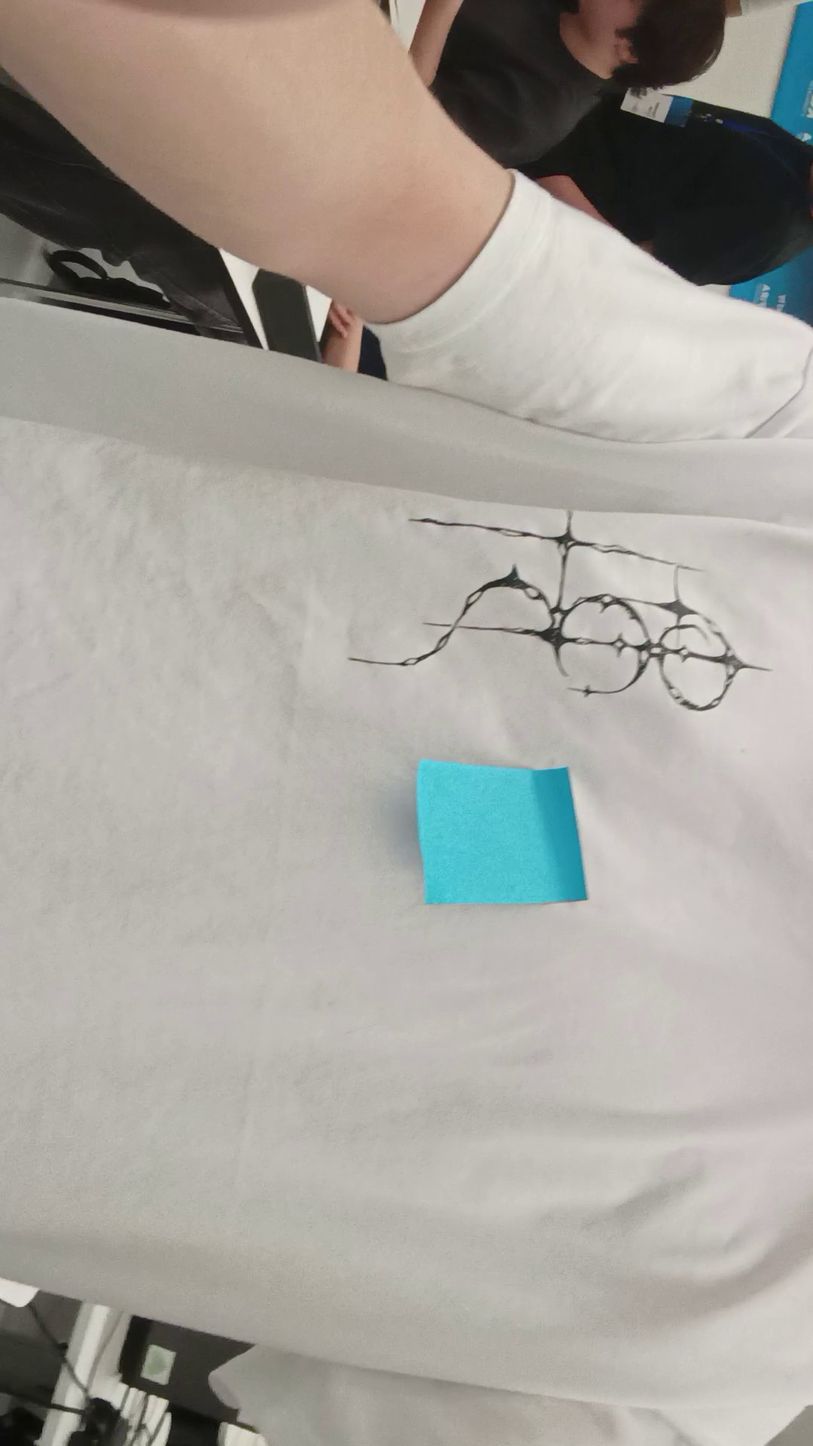marker: (419, 764, 586, 902), (771, 2, 813, 144), (731, 251, 809, 305), (684, 99, 691, 104)
